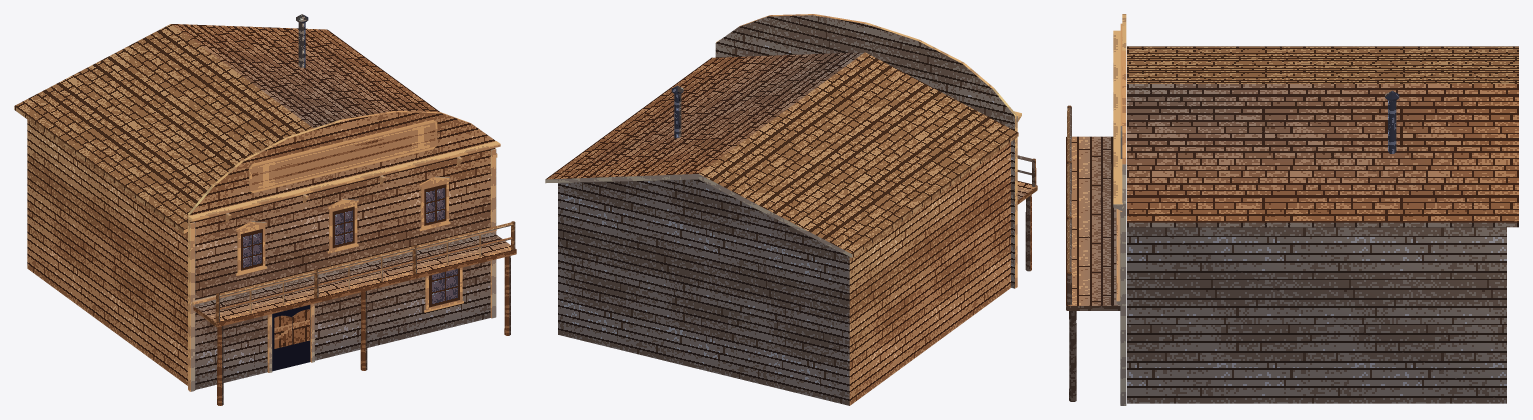
File: wtown.saloon__arched.glb
3 renders of one model, left to right at view 1: azimuth 30°, elevation 25°; view 2: azimuth 150°, elevation 25°; view 3: azimuth 270°, elevation 25°, orthographic. The views are drawn at different scales.
Visible parts, largest first — view 1: kit_roof, kit_front, kit_body, kit_balcony, kit_card_panes, kit_trim, kit_windows, kit_door, kit_stovepipe; view 2: kit_body, kit_roof, kit_front, kit_balcony, kit_stovepipe; view 3: kit_roof, kit_body, kit_balcony, kit_trim, kit_front, kit_stovepipe.
Boxes of the visible parts, x1,y1,x2,y2 form: kit_roof: (14, 24, 497, 233); kit_front: (188, 111, 495, 390); kit_body: (27, 119, 187, 385); kit_balcony: (193, 221, 516, 405); kit_card_panes: (241, 122, 459, 371); kit_trim: (188, 119, 500, 391); kit_windows: (236, 176, 463, 312); kit_door: (274, 309, 309, 348); kit_stovepipe: (296, 14, 308, 67); kit_body: (558, 142, 1010, 405); kit_roof: (545, 52, 1018, 257); kit_front: (715, 14, 1016, 288); kit_balcony: (1017, 155, 1037, 271); kit_stovepipe: (671, 85, 683, 138); kit_roof: (1127, 46, 1518, 227); kit_body: (1127, 227, 1506, 403); kit_balcony: (1066, 105, 1120, 401); kit_trim: (1113, 23, 1122, 405); kit_front: (1122, 14, 1126, 405); kit_stovepipe: (1385, 90, 1399, 153).
Bounding box in the file's own units: 12.1 × 8.7 × 13.12.
12 materials, 12 textured.
